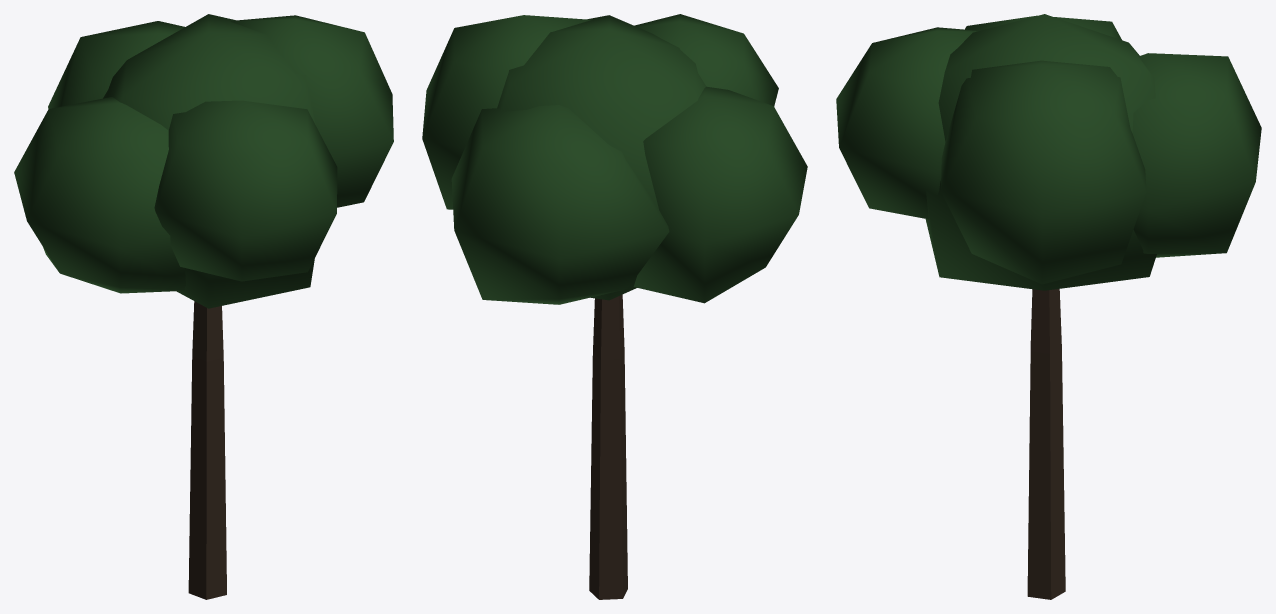
3 renders of one model, left to right at view 1: azimuth 30°, elevation 25°; view 2: azimuth 150°, elevation 25°; view 3: azimuth 270°, elevation 25°, orthographic. The views are drawn at different scales.
Visible parts, largest first — view 1: 树_04; view 2: 树_04; view 3: 树_04.
Part boxes in pixels (left/top/right/bottom): 树_04: left=14, top=14, right=393, bottom=599; 树_04: left=422, top=14, right=807, bottom=599; 树_04: left=836, top=14, right=1261, bottom=599.
Bounding box in the file's own units: 6.33 × 9.2 × 6.14.
